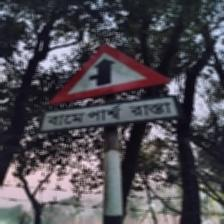Side-road-left: (40, 43, 181, 133)
